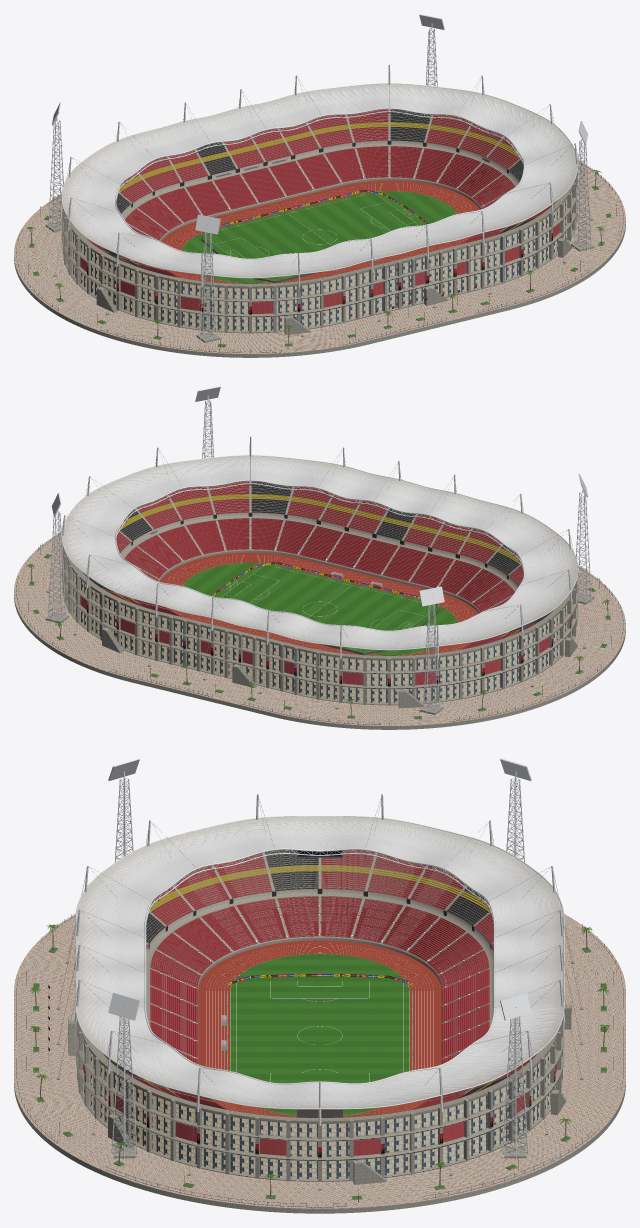
Rendered from estadio.glb.
3 views of the same model, one above another, from view 1: azimuth 30°, elevation 25°; view 2: azimuth 150°, elevation 25°; view 3: azimuth 270°, elevation 25° (orthographic). The views are drawn at different scales.
Parts seen in each view (by area): view 1: Cobertura_Tensionada, Bancada_Anel, Fachada_Estrutura, Praca_Pavimento_Vedacao, Relva, Pista, Torres_Estrutura, Escadas_Exteriores, Praca_Palmeiras_Canteiros, Placas_LED; view 2: Cobertura_Tensionada, Bancada_Anel, Fachada_Estrutura, Praca_Pavimento_Vedacao, Relva, Pista, Torres_Estrutura, Escadas_Exteriores, Praca_Palmeiras_Canteiros, Placas_LED; view 3: Cobertura_Tensionada, Praca_Pavimento_Vedacao, Bancada_Anel, Fachada_Estrutura, Relva, Pista, Torres_Estrutura, Escadas_Exteriores, Praca_Palmeiras_Canteiros, Placas_LED.
Boxes of the visible parts, x1=… form: Cobertura_Tensionada: x1=53, y1=65, x2=593, y2=337; Bancada_Anel: x1=84, y1=109, x2=558, y2=283; Fachada_Estrutura: x1=61, y1=174, x2=578, y2=333; Praca_Pavimento_Vedacao: x1=14, y1=160, x2=625, y2=357; Relva: x1=182, y1=191, x2=456, y2=283; Pista: x1=161, y1=180, x2=479, y2=283; Torres_Estrutura: x1=45, y1=14, x2=594, y2=342; Escadas_Exteriores: x1=96, y1=237, x2=572, y2=334; Praca_Palmeiras_Canteiros: x1=27, y1=170, x2=611, y2=347; Placas_LED: x1=201, y1=189, x2=428, y2=282; Cobertura_Tensionada: x1=46, y1=437, x2=586, y2=709; Bancada_Anel: x1=81, y1=481, x2=555, y2=655; Fachada_Estrutura: x1=61, y1=546, x2=578, y2=705; Praca_Pavimento_Vedacao: x1=14, y1=532, x2=625, y2=729; Relva: x1=183, y1=563, x2=457, y2=655; Pista: x1=160, y1=552, x2=478, y2=655; Torres_Estrutura: x1=45, y1=386, x2=594, y2=714; Escadas_Exteriores: x1=102, y1=627, x2=577, y2=708; Praca_Palmeiras_Canteiros: x1=27, y1=554, x2=610, y2=719; Placas_LED: x1=211, y1=561, x2=438, y2=654; Cobertura_Tensionada: x1=56, y1=794, x2=583, y2=1190; Praca_Pavimento_Vedacao: x1=14, y1=914, x2=625, y2=1213; Bancada_Anel: x1=101, y1=850, x2=538, y2=1117; Fachada_Estrutura: x1=75, y1=1020, x2=564, y2=1181; Relva: x1=230, y1=954, x2=409, y2=1115; Pista: x1=198, y1=940, x2=441, y2=1117; Torres_Estrutura: x1=108, y1=758, x2=531, y2=1159; Escadas_Exteriores: x1=68, y1=960, x2=571, y2=1184; Praca_Palmeiras_Canteiros: x1=30, y1=924, x2=610, y2=1199; Placas_LED: x1=226, y1=973, x2=413, y2=1069.
Bounding box in the file's own units: 333 × 72.3 × 249.
Materials: 38 (32 with a texture image).
